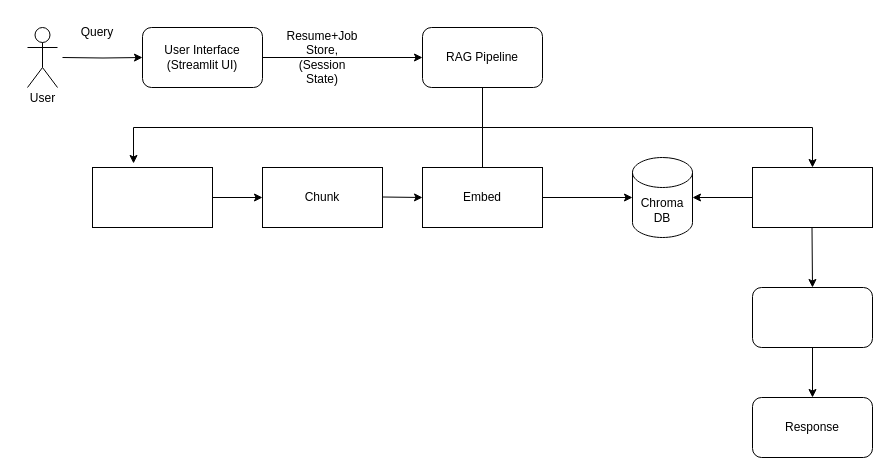
Some shapes in this 890 by 475 pixel diagram are drawn without their labels. The centre of each missing label's shape, as x and y in pixels:
"LLM (GPT 4o mini)" belongs at pixel 812 317.
"Parse" belongs at pixel 152 197.
"Retrieve" belongs at pixel 812 197.
